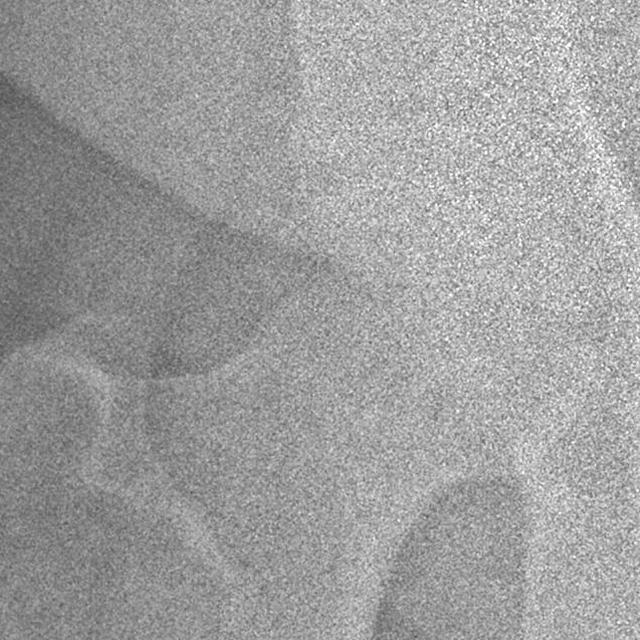Fitted_femural_head: (339, 154, 432, 339)
